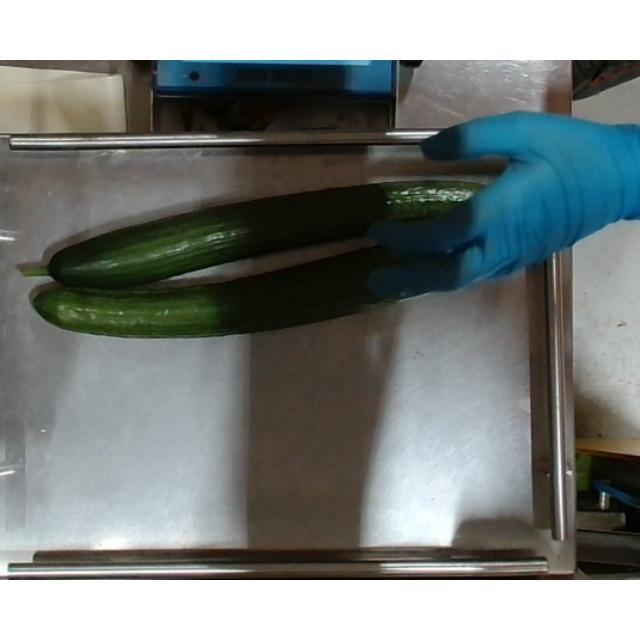cucumber: (26, 178, 500, 284), (31, 240, 485, 342)
